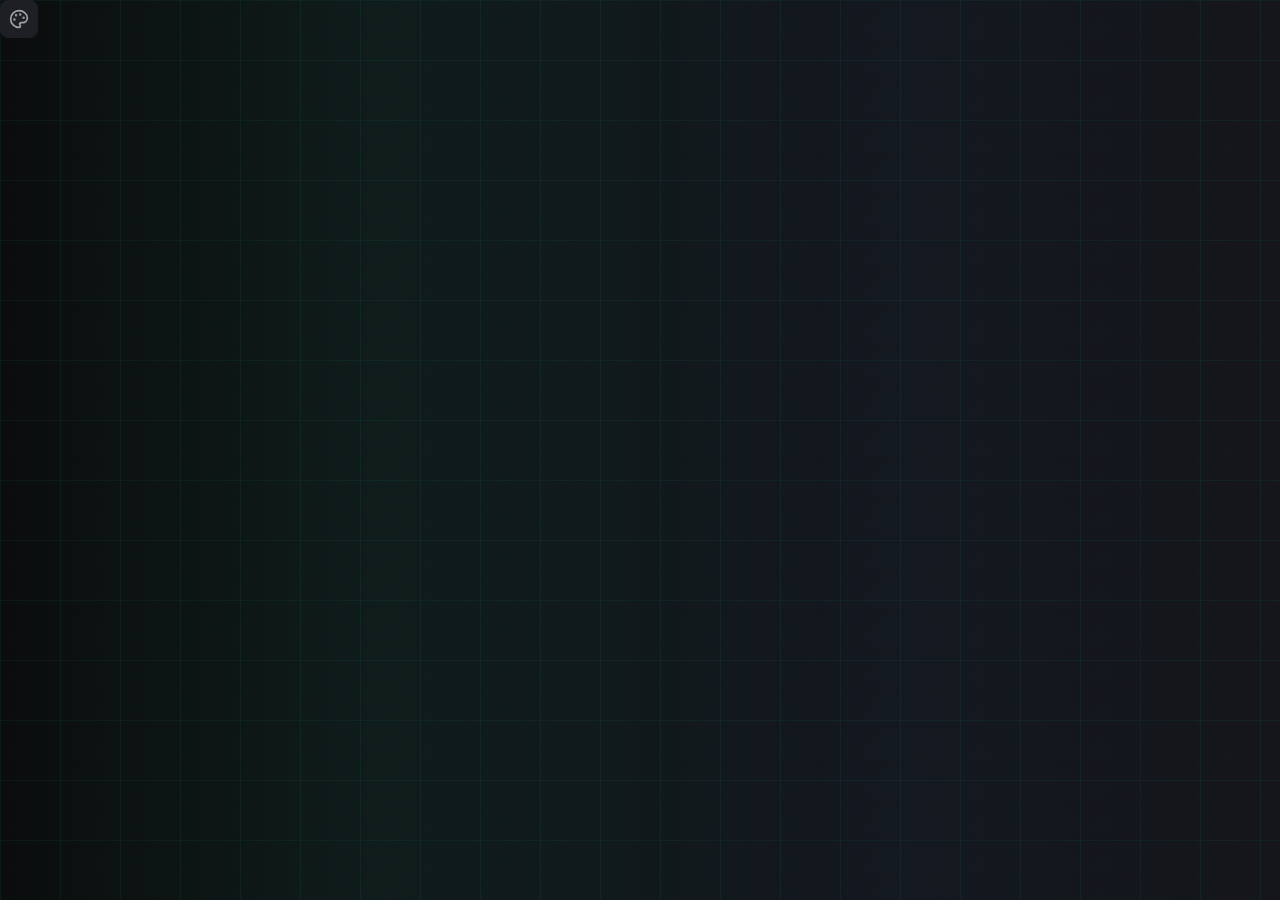
ThemeSwitcher › closes dropdown when clicking outside
Click the button named "toggle theme switcher": {"x": 19, "y": 19} [0, 0, 38, 38]
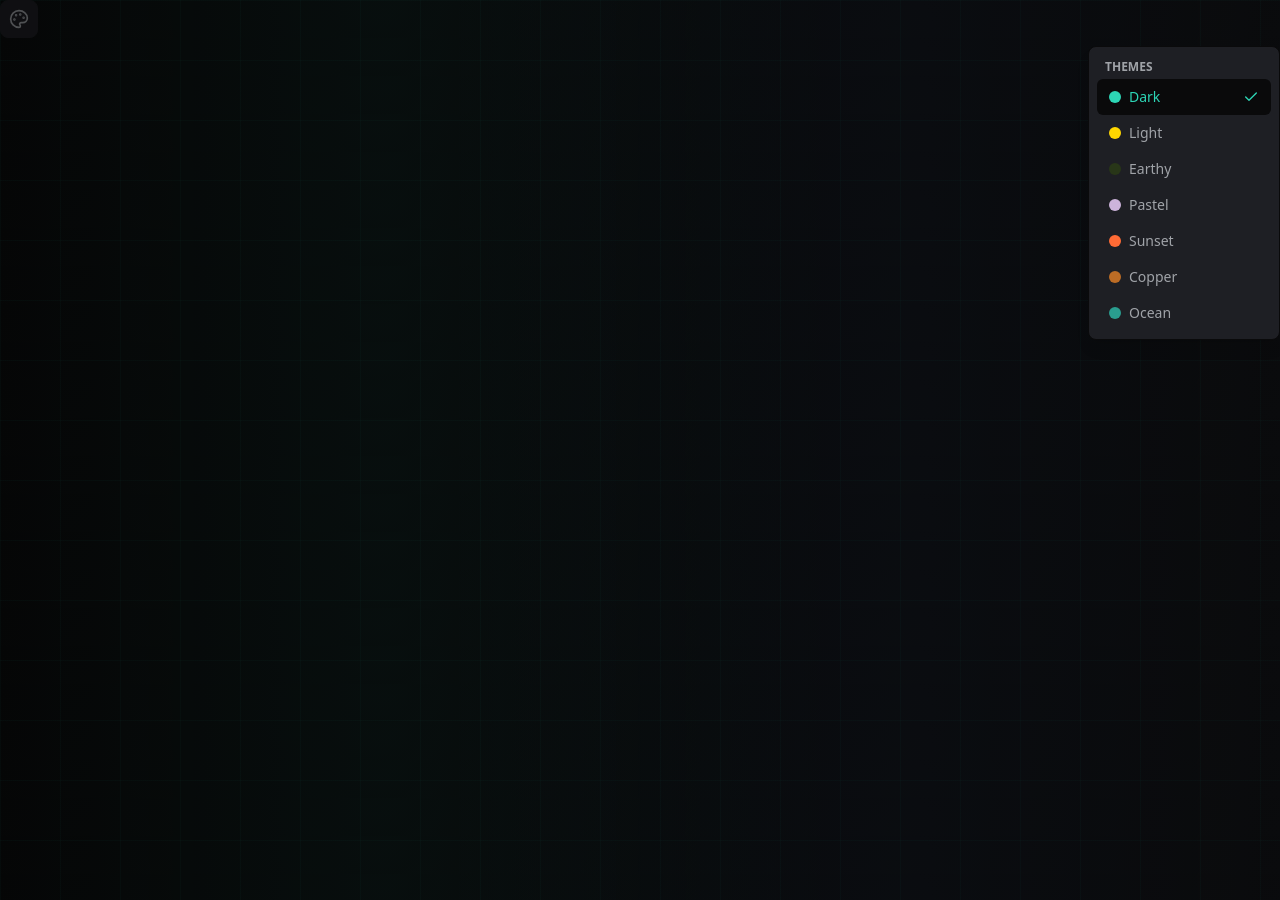
Result: the text "THEMES" is shown at [1105, 58, 1152, 75]
Click the element with class "inset-0": {"x": 640, "y": 450} [0, 0, 1279, 899]
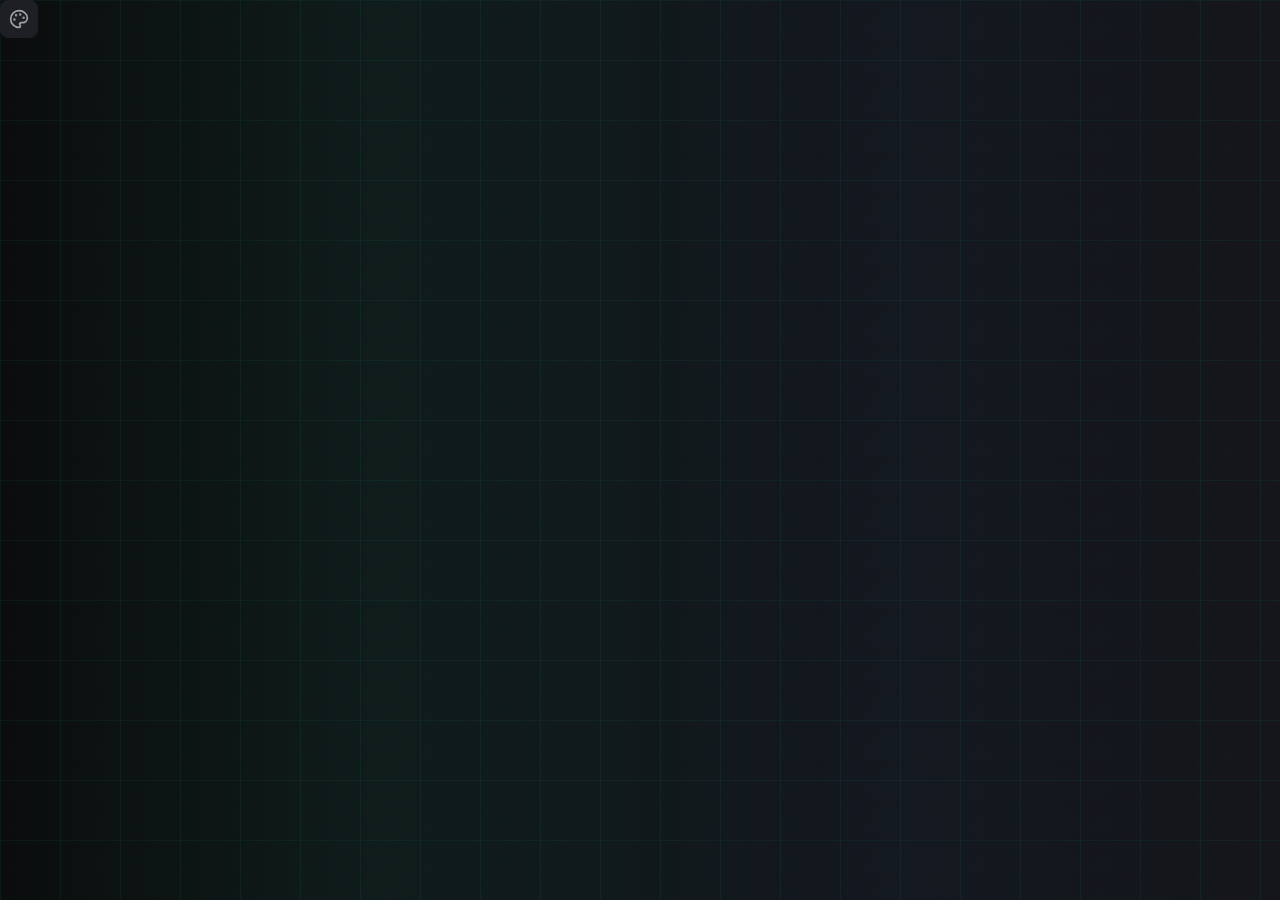
Result: the text "THEMES" is gone
